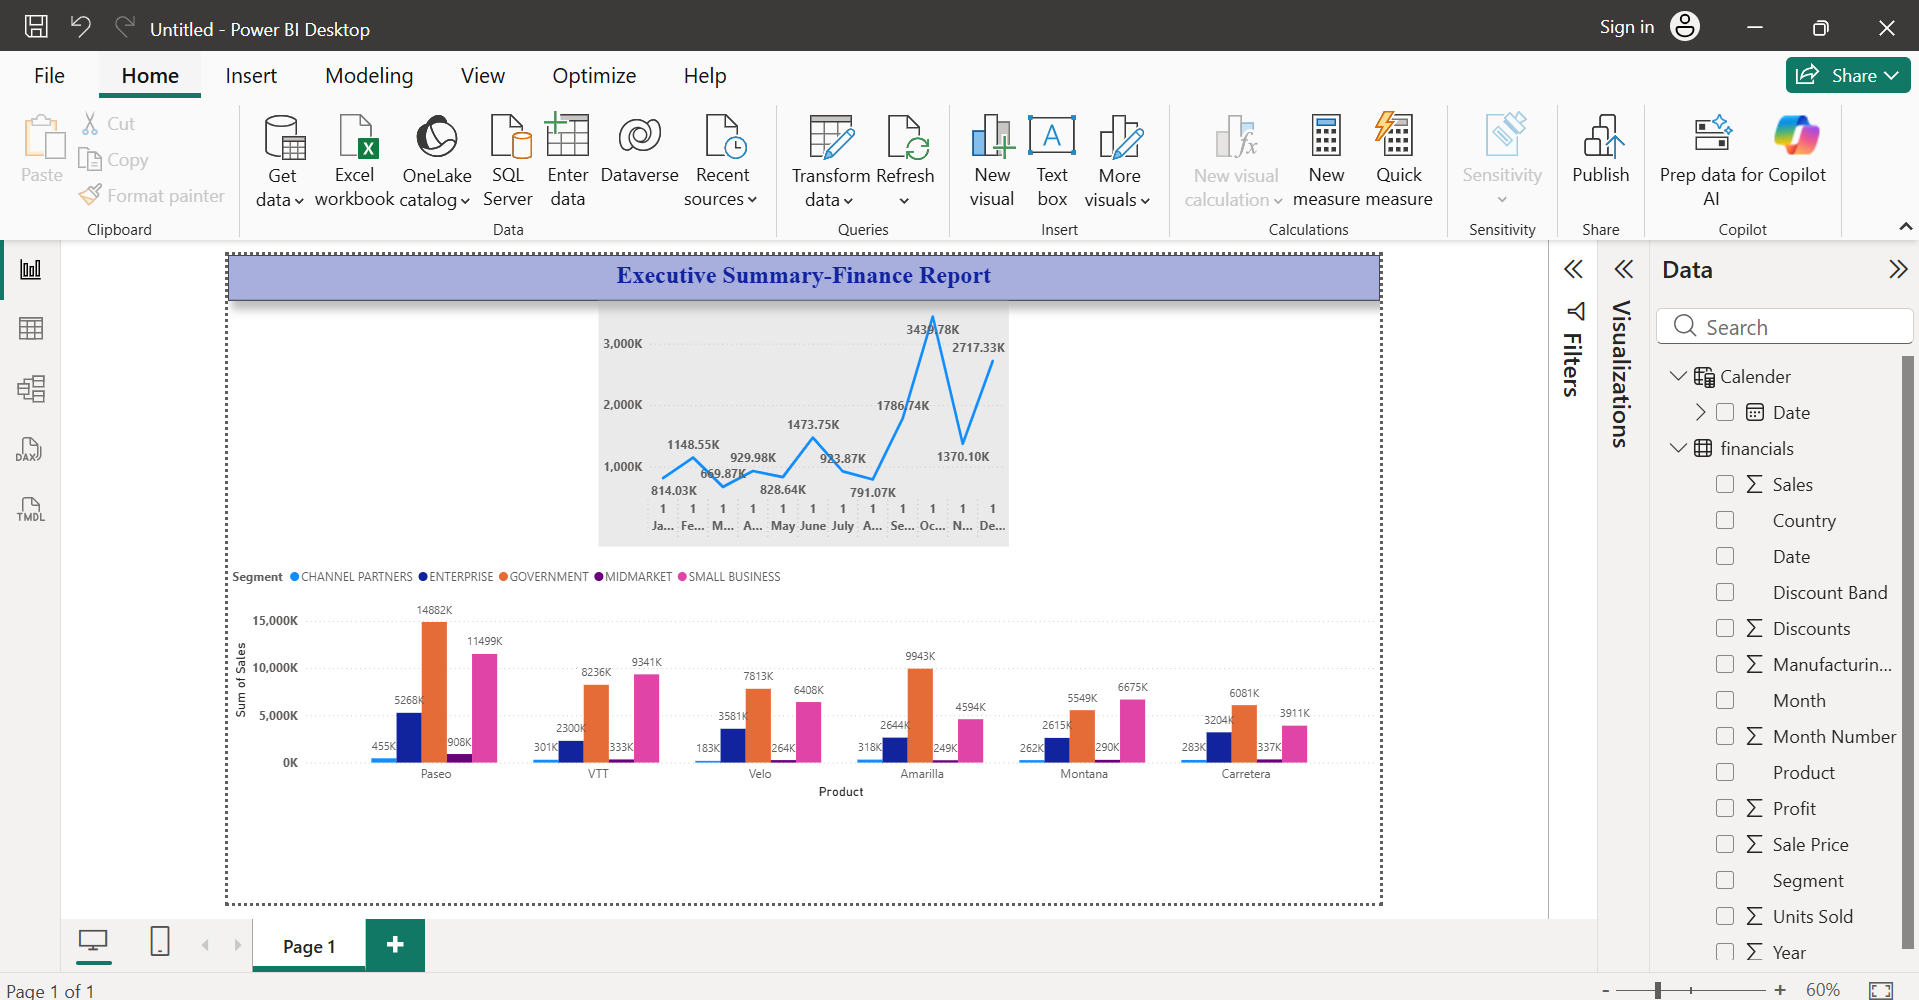

This screenshot's page, from the dashboard's own definition file:
{"tool":"powerbi","page":{"name":"Page 1","canvas":[1280,720],"ordinal":0},"visuals":[{"type":"textbox","box":[0,0,1280,95],"z":0},{"type":"lineChart","fields":{"Y":["Sum(financials.Profit)"],"Category":["Calendar.Date.Variation.Date Hierarchy.Year","Calendar.Date.Variation.Date Hierarchy.Quarter","Calendar.Date.Variation.Date Hierarchy.Month","Calendar.Date.Variation.Date Hierarchy.Day"]},"box":[231.7,95,548.3,296.7],"z":1000},{"type":"funnel","fields":{"Category":["financials.Country"],"Y":["Sum(financials.Profit)"]},"box":[805,95,475,296.7],"z":1001},{"type":"clusteredColumnChart","fields":{"Y":["Sum(financials. Sales)"],"Category":["financials.Product"],"Series":["financials.Segment"]},"box":[231.7,410,1048.3,310],"z":1002},{"type":"slicer","fields":{"Values":["Calendar.Date.Variation.Date Hierarchy.Year","Calendar.Date.Variation.Date Hierarchy.Month"]},"box":[0,95,218.3,625],"z":1003}]}

Visuals, with their boxes on the page's 1280x720 design canvas (x1, y1, x2, y2). These are canvas units, not pixel positions in the 1919x1000 screenshot, which may show the page scaled, cropped or inside an application window:
textbox: [0,0,1280,95]
lineChart - Sum(financials.Profit) x Calendar.Date.Variation.Date Hierarchy.Year: [232,95,780,392]
funnel - financials.Country x Sum(financials.Profit): [805,95,1280,392]
clusteredColumnChart - Sum(financials. Sales) x financials.Product: [232,410,1280,720]
slicer - Calendar.Date.Variation.Date Hierarchy.Year x Calendar.Date.Variation.Date Hierarchy.Month: [0,95,218,720]
